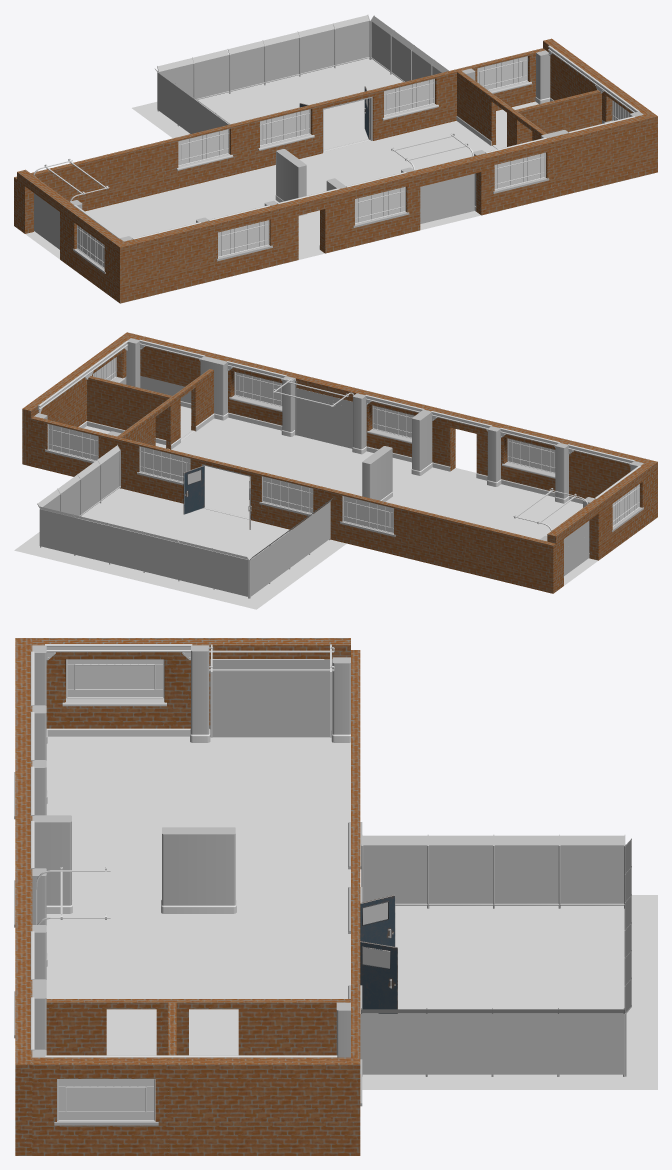
File: Garage.fbx
3 renders of one model, top to bottom at view 1: azimuth 30°, elevation 25°; view 2: azimuth 150°, elevation 25°; view 3: azimuth 270°, elevation 25°, orthographic. The views are drawn at different scales.
Visible parts, largest first — view 1: WallFront, WallBakc, Floor, Fence, GroundOutside, WallRight.002, WallBakc.001, WallLeft, WallBakc.002, Frame, Pillar.016, Frame.001 (+18 smaller); view 2: Floor, WallBakc, Fence, WallFront, GroundOutside, WallRight.002, WallLeft, WallBakc.002, Frame, WallBakc.001, Pillar.016, Frame.001 (+25 smaller); view 3: Floor, Fence, GroundOutside, WallLeft, WallBakc.001, WallRight.002, Frame.001, WallFront, Pillar.016, WallBakc, WindowGlass.001, WindowGlass.002 (+16 smaller).
Part boxes in pixels (x1,y1,x2,y2): WallFront: [115, 112, 657, 303]; WallBakc: [14, 48, 545, 227]; Floor: [25, 121, 496, 259]; Fence: [155, 14, 448, 133]; GroundOutside: [132, 58, 403, 149]; WallRight.002: [17, 169, 123, 299]; WallBakc.001: [457, 71, 547, 146]; WallLeft: [543, 38, 652, 123]; WallBakc.002: [515, 90, 601, 143]; Frame: [391, 133, 474, 223]; Pillar.016: [276, 149, 306, 201]; Frame.001: [33, 158, 109, 249]; Floor: [171, 417, 597, 585]; WallBakc: [31, 416, 555, 593]; Fence: [37, 445, 332, 598]; WallFront: [122, 332, 657, 520]; GroundOutside: [14, 488, 346, 609]; WallRight.002: [547, 463, 652, 591]; WallLeft: [22, 336, 130, 466]; WallBakc.002: [87, 376, 171, 439]; Frame: [272, 378, 353, 448]; WallBakc.001: [117, 369, 213, 449]; Pillar.016: [362, 446, 392, 500]; Frame.001: [513, 488, 588, 575]; Floor: [46, 736, 350, 1055]; Fence: [360, 834, 631, 1076]; GroundOutside: [362, 895, 657, 1089]; WallLeft: [32, 1057, 360, 1155]; WallBakc.001: [46, 999, 350, 1055]; WallRight.002: [32, 638, 350, 728]; Frame.001: [208, 644, 334, 737]; WallFront: [15, 638, 32, 1155]; Pillar.016: [162, 827, 235, 905]; WallBakc: [351, 650, 360, 1057]; WindowGlass.001: [58, 1079, 153, 1119]; WindowGlass.002: [67, 659, 162, 697].
Bounding box in the file's own units: 30.15 × 3.37 × 19.2.
